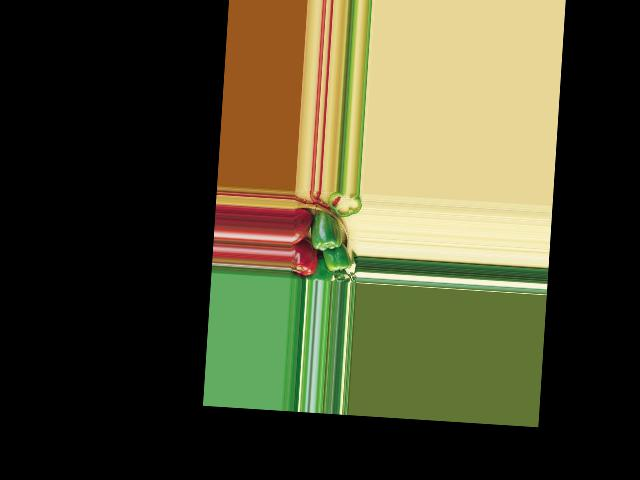bell_pepper: (292, 207, 311, 246)
